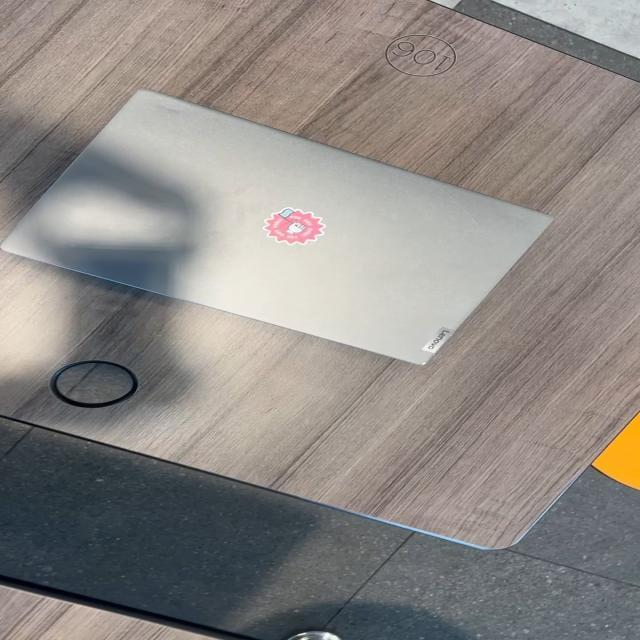laptop: (0, 87, 554, 366)
